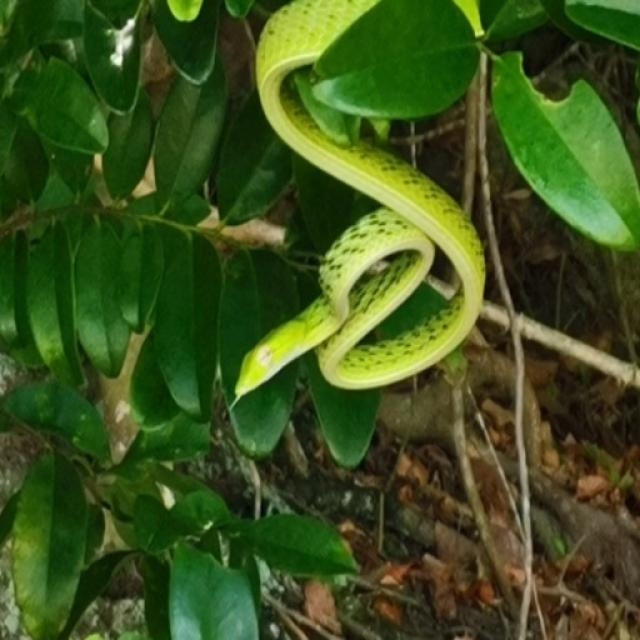snake: (206, 0, 522, 411)
